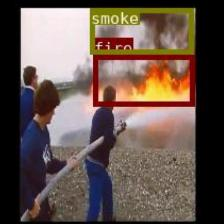fire: (92, 54, 194, 105)
smoke: (90, 7, 192, 53)
